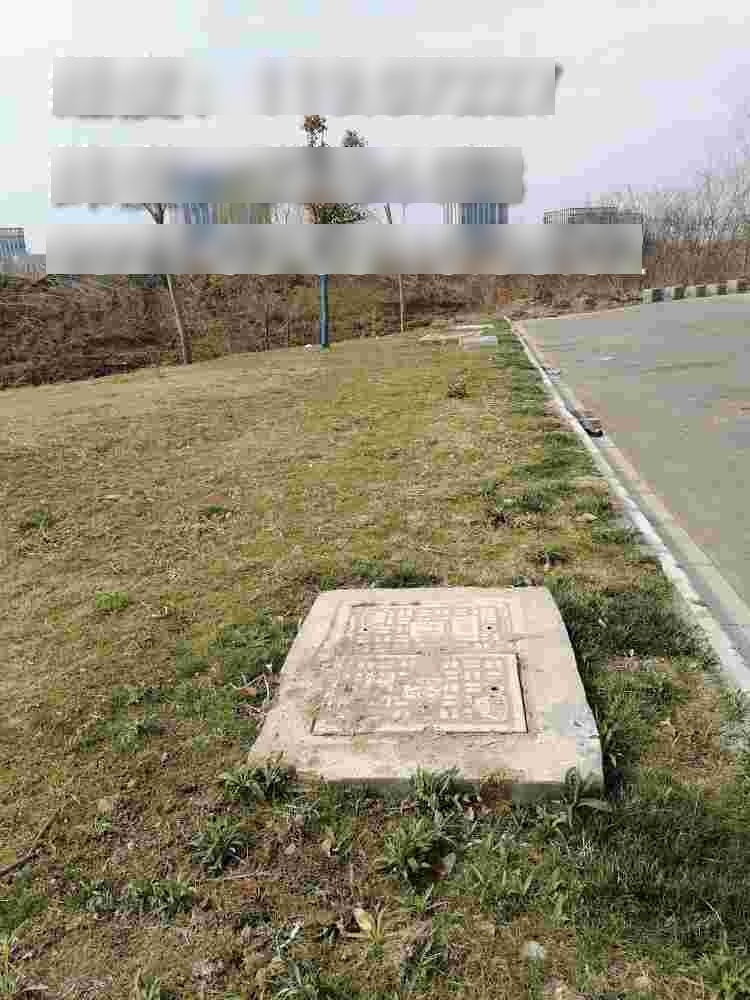good: (301, 599, 541, 743)
